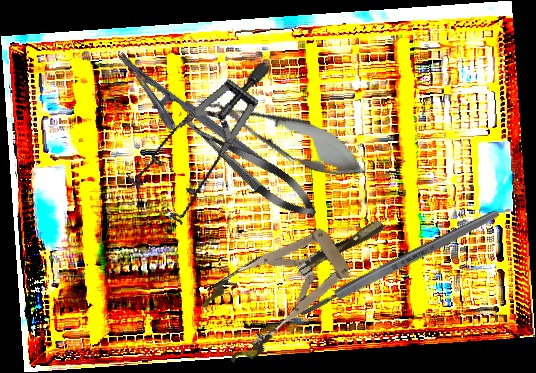Micro Scissor: (188, 78, 375, 191), (175, 107, 325, 227)
Needle Holder: (101, 51, 275, 194)
Scalpel Handle: (296, 206, 503, 321)
Speculum: (191, 189, 406, 370), (107, 61, 307, 236)
